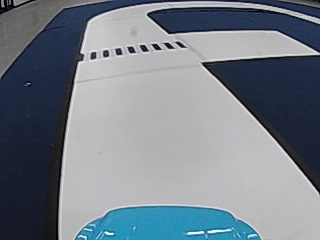CrossWalk: (83, 40, 187, 61)
